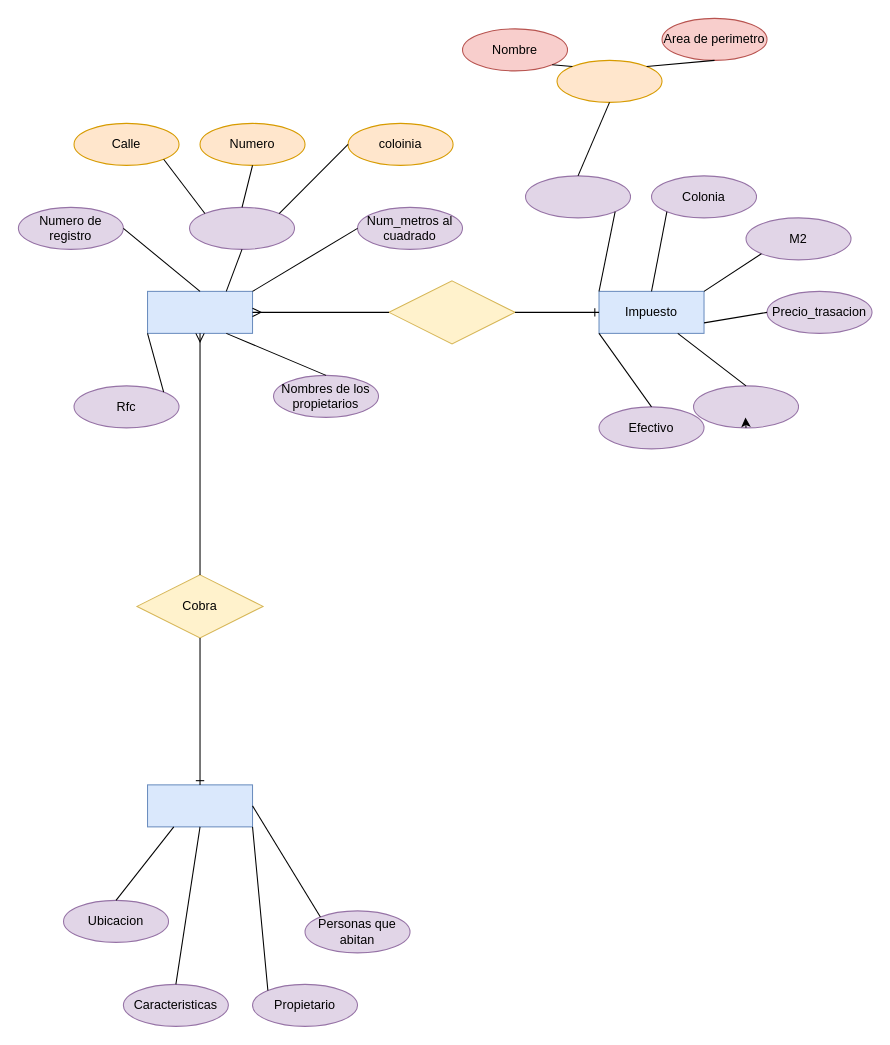
The diagram is 890 pixels wide and 1045 high, and some of its shapes have lost their labels. Here are the shapes that lost their labels. From the top down, the centre of each, then its label:
At (x=609, y=80): "Ciudad".
At (x=577, y=196): "Municipio".
At (x=241, y=227): "Direccion de la vivienda".
At (x=199, y=311): "Resivos".
At (x=451, y=312): "Ponen".
At (x=745, y=406): "Tarjeta".
At (x=199, y=805): "Viviendas".
